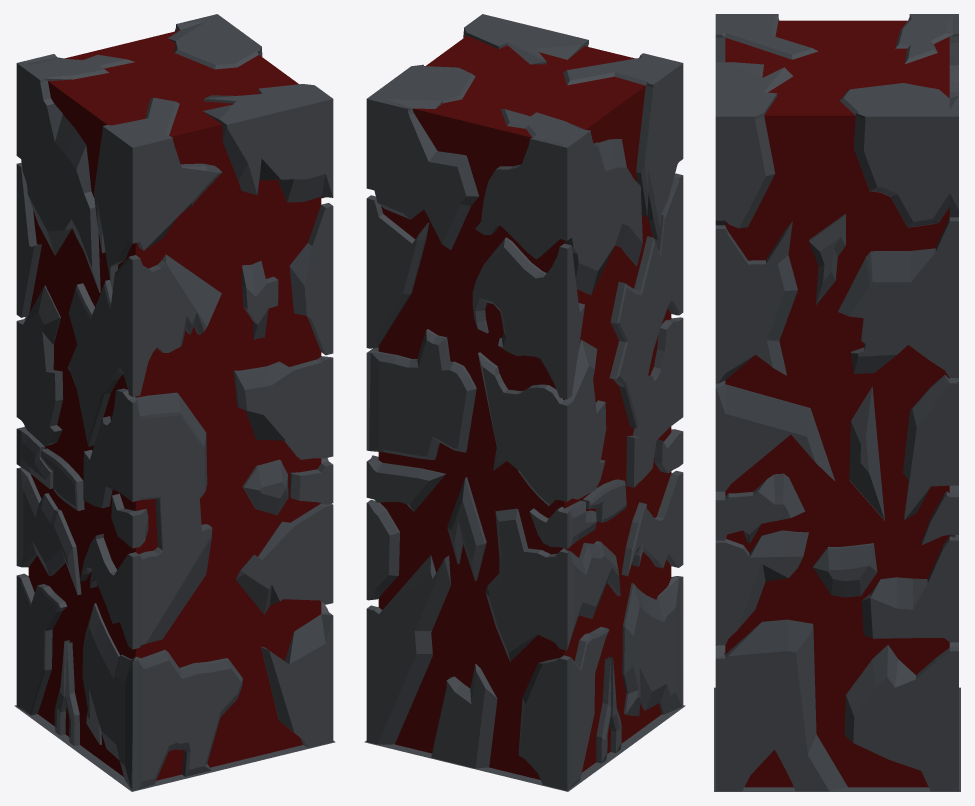
File: AbWallCorner.fbx
3 views of the same model, side by side, from view 1: azimuth 30°, elevation 25°; view 2: azimuth 150°, elevation 25°; view 3: azimuth 270°, elevation 25° (orthographic). The views are drawn at different scales.
Parts seen in each view (by area): view 1: AbWallCorner; view 2: AbWallCorner; view 3: AbWallCorner.
Part boxes in pixels (box(x1,y1,x2,y2)): AbWallCorner: box(14, 14, 335, 791); AbWallCorner: box(364, 14, 685, 791); AbWallCorner: box(714, 14, 960, 791).
Bounding box in the file's own units: 200 × 603 × 200.
